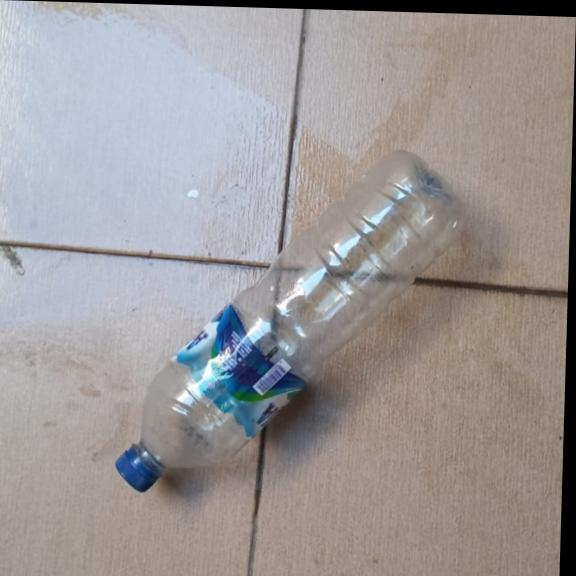Plastik: (113, 140, 469, 501)
